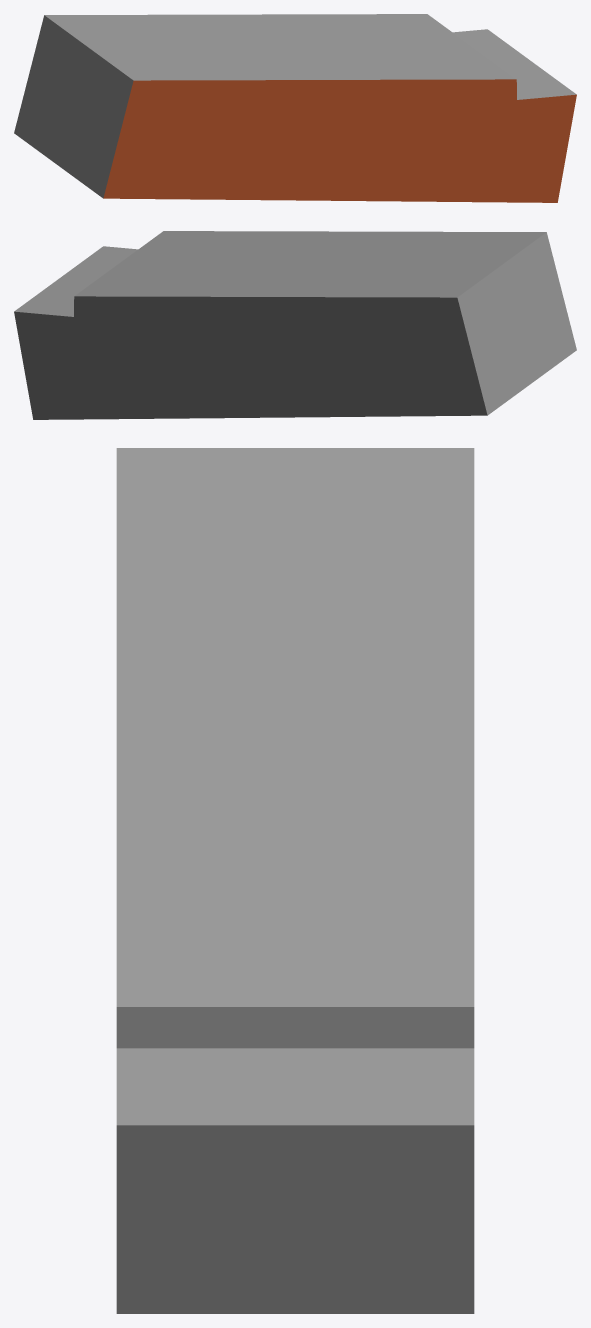
Rendered from construction_0185_assumed_A_Casa_h6m.obj.
3 views of the same model, one above another, from view 1: azimuth 30°, elevation 25°; view 2: azimuth 150°, elevation 25°; view 3: azimuth 270°, elevation 25° (orthographic). The views are drawn at different scales.
Parts seen in each view (by area): view 1: construction_0185_assumed_A_Casa; view 2: construction_0185_assumed_A_Casa; view 3: construction_0185_assumed_A_Casa.
Boxes of the visible parts, x1=… form: construction_0185_assumed_A_Casa: x1=14, y1=14, x2=576, y2=202; construction_0185_assumed_A_Casa: x1=14, y1=231, x2=576, y2=419; construction_0185_assumed_A_Casa: x1=116, y1=448, x2=474, y2=1313.
Bounding box in the file's own units: 18.36 × 8.37 × 6.
